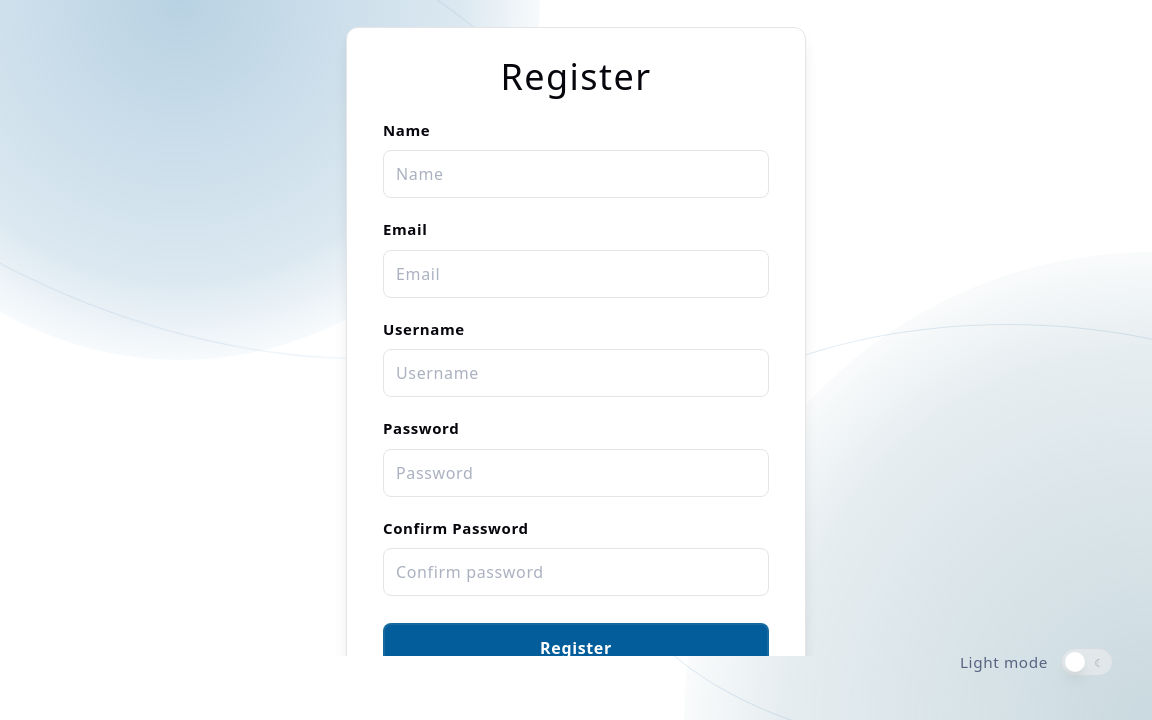
Test: Register › filters non-numeric characters from the verification code
In the field with placeholder "Name": {"x": 576, "y": 174} [383,150,769,198], type "Test User"
In the field with placeholder "Email": {"x": 576, "y": 274} [383,250,769,298], type "test@example.com"
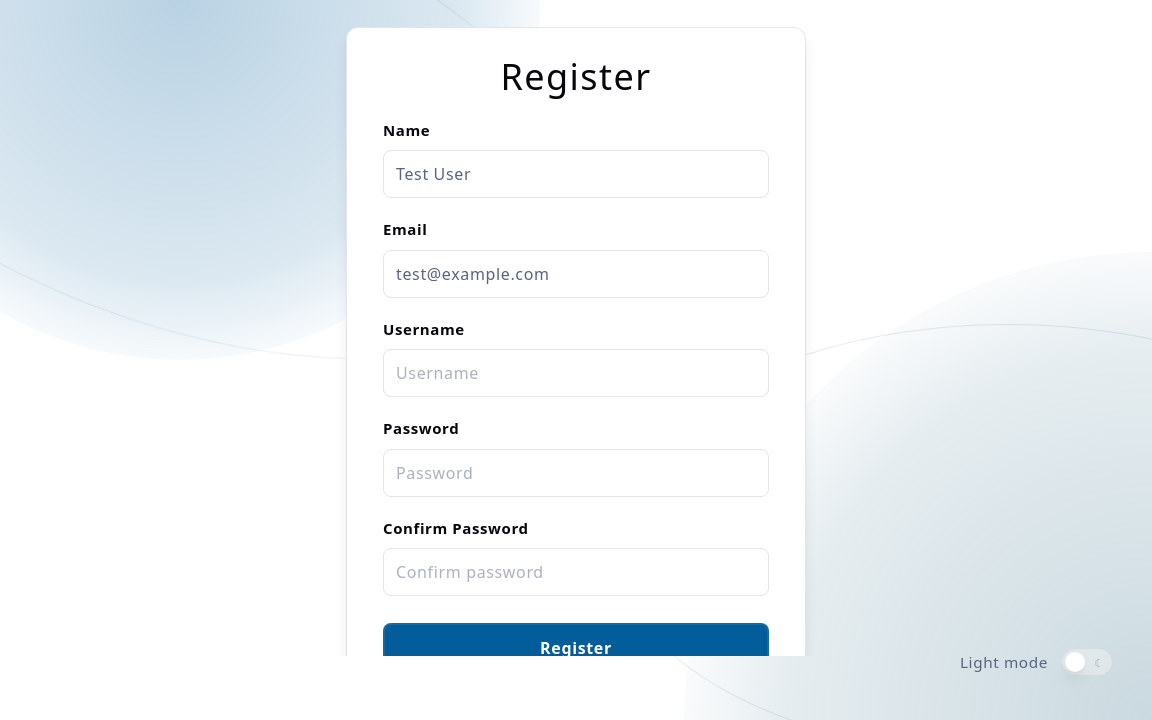
In the field with placeholder "Username": {"x": 576, "y": 373} [383,349,769,397], type "testuser"
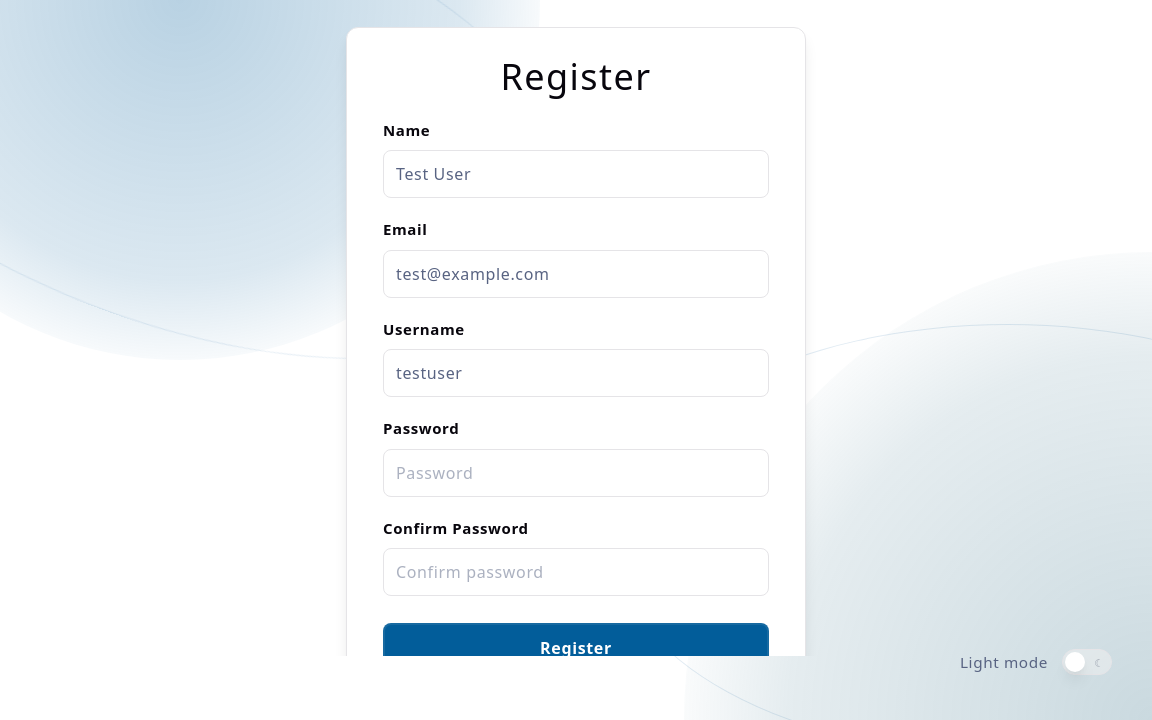
In the password field with placeholder "Password": {"x": 576, "y": 473} [383,448,769,497], type "password123"
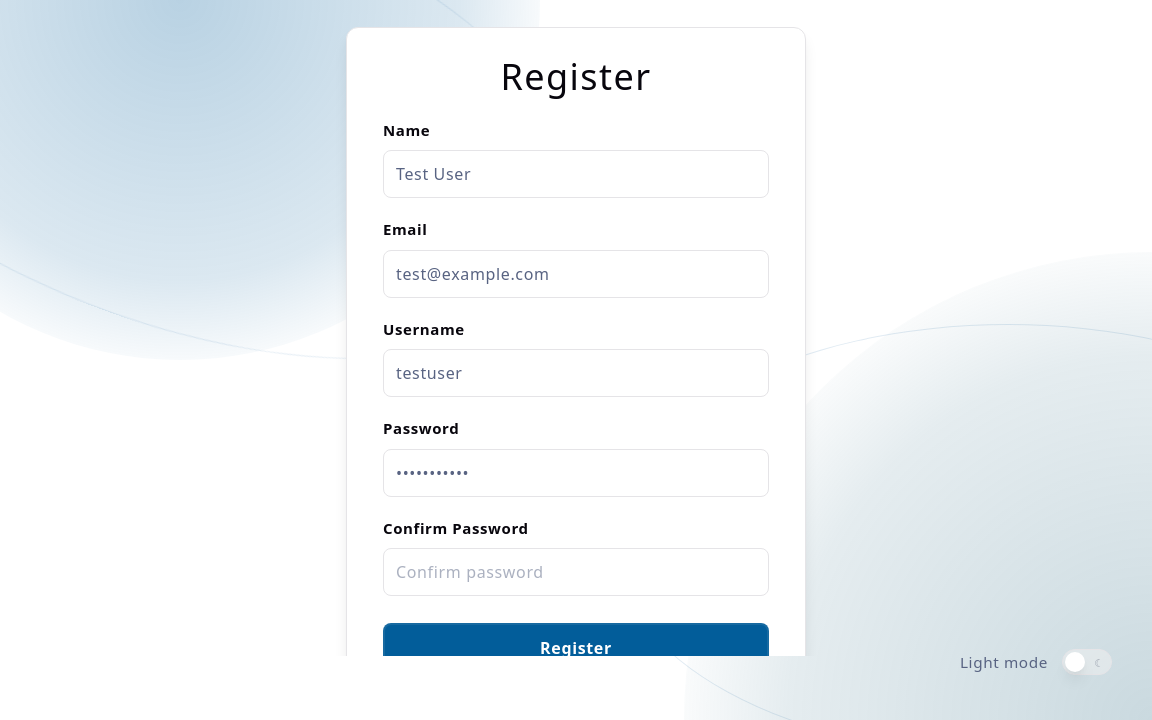
In the password field with placeholder "Confirm Password": {"x": 576, "y": 572} [383,548,769,596], type "password123"
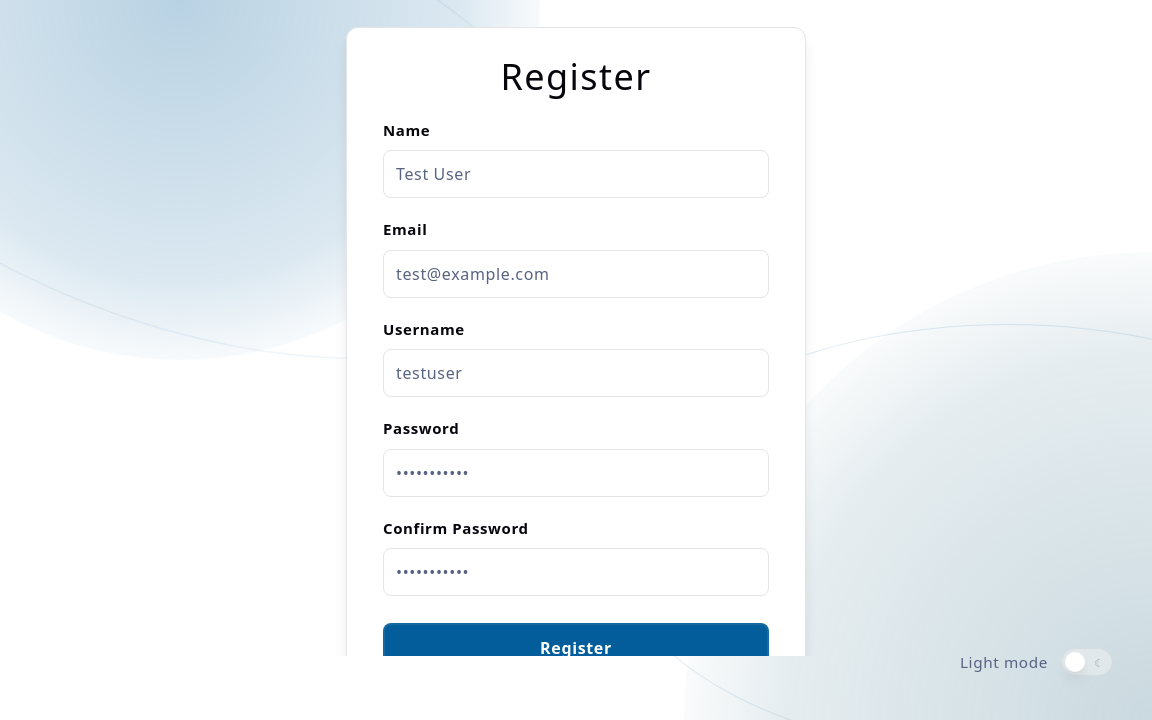
Click the button "Register": {"x": 576, "y": 648} [383,623,769,673]
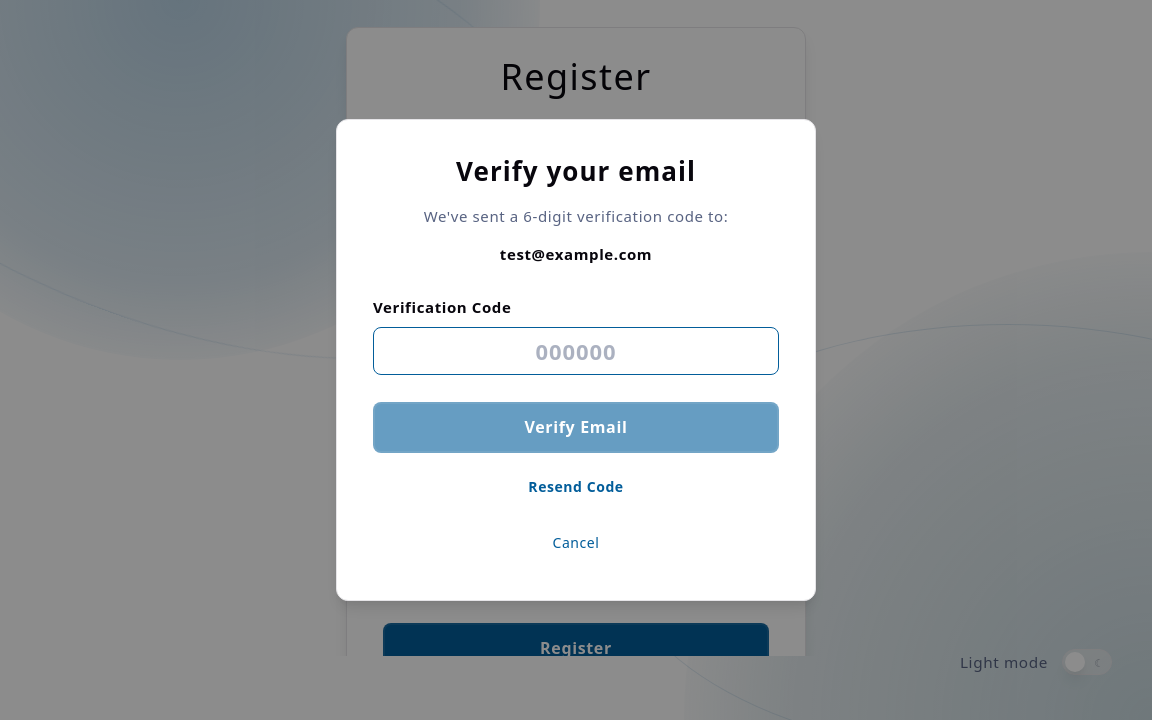
Check: the field with placeholder "000000" is shown
In the field with placeholder "000000": {"x": 576, "y": 351} [373,327,779,375], type "12a3b4567"
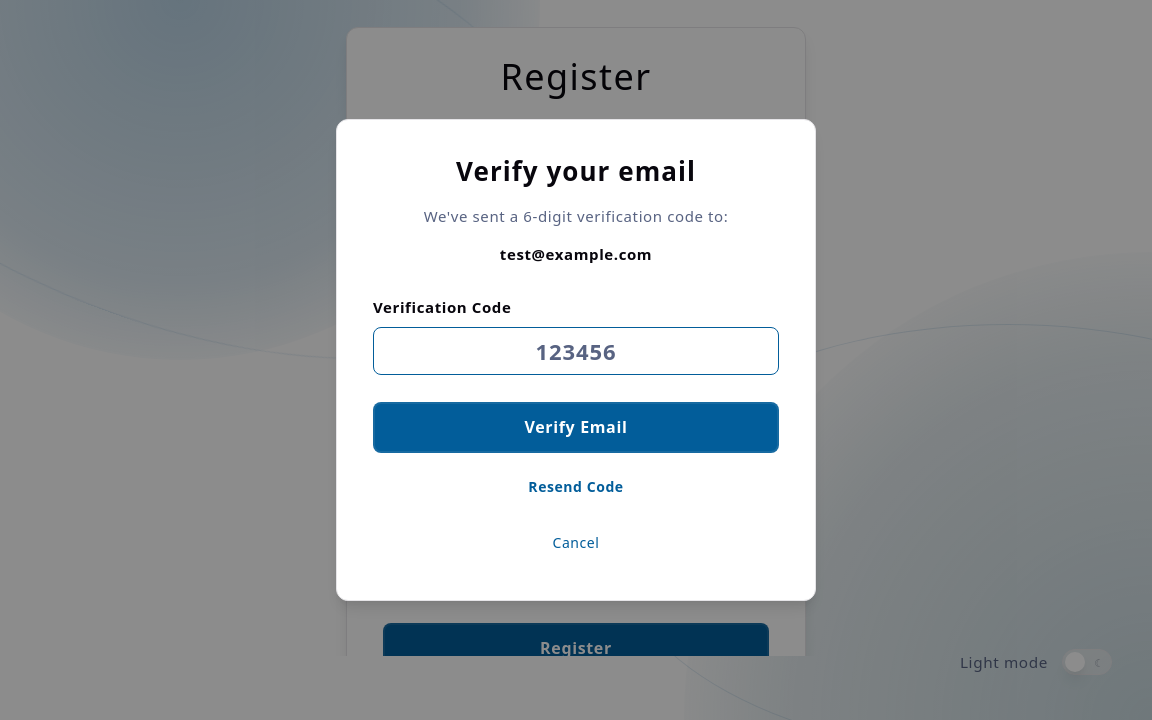
Check: the field with placeholder "000000" holds "123456", box [373,327,779,375]
